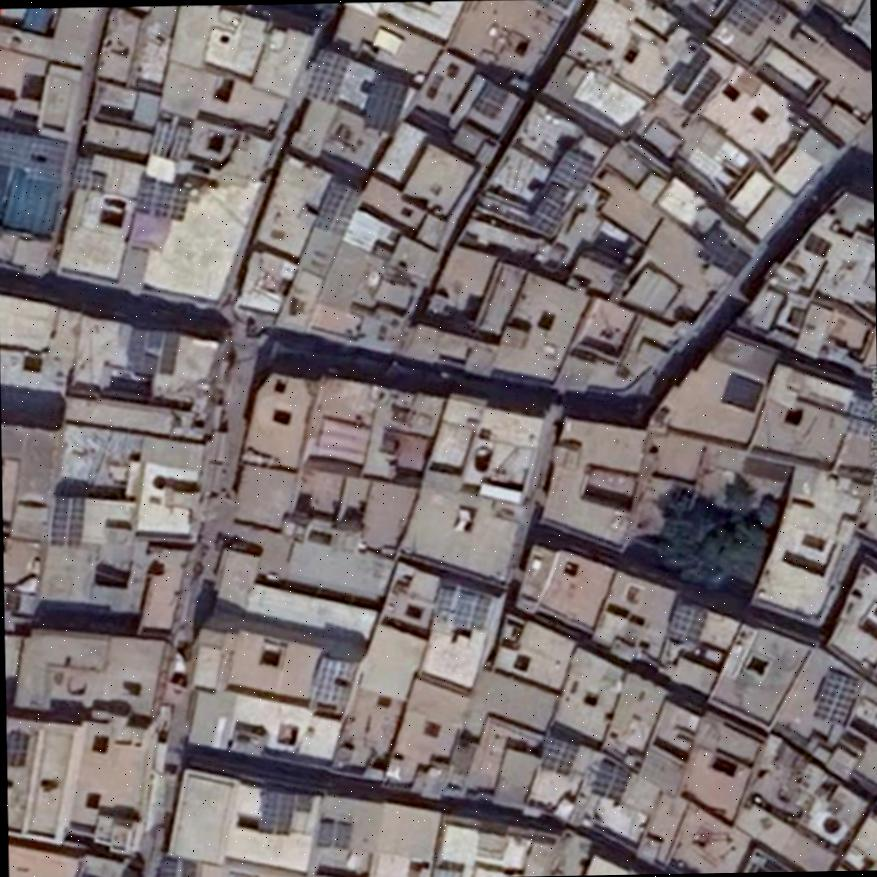Solarpanel: (0, 133, 64, 183), (132, 174, 191, 221), (305, 46, 351, 105), (308, 654, 354, 712), (315, 173, 360, 232), (362, 76, 406, 134), (431, 585, 487, 629), (814, 673, 861, 724), (677, 65, 723, 114), (547, 148, 598, 190), (670, 47, 711, 94), (46, 494, 81, 547), (727, 0, 779, 35), (148, 119, 194, 158), (256, 790, 294, 835), (591, 758, 629, 802), (668, 602, 707, 640), (473, 79, 508, 120), (844, 397, 876, 439), (541, 737, 579, 772), (315, 817, 352, 849), (5, 728, 27, 766), (69, 157, 90, 192)
